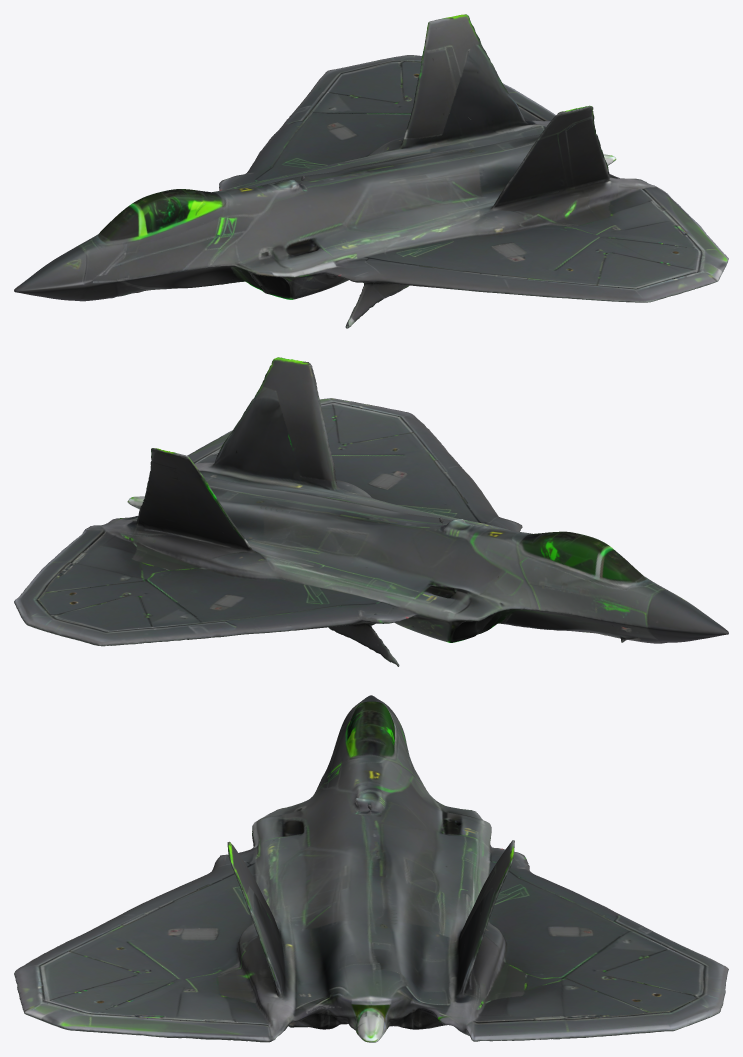
Rendered from Meshy_AI_A_hyper_realistic_3D__0325095037_texture.glb.
The picture shows the model from 3 angles, top to bottom: view 1: azimuth 30°, elevation 25°; view 2: azimuth 150°, elevation 25°; view 3: azimuth 270°, elevation 25°; orthographic projection. The views are drawn at different scales.
Size of the model in its own units: 2 by 0.4817 by 1.83.
Materials: 1 (1 with a texture image).
